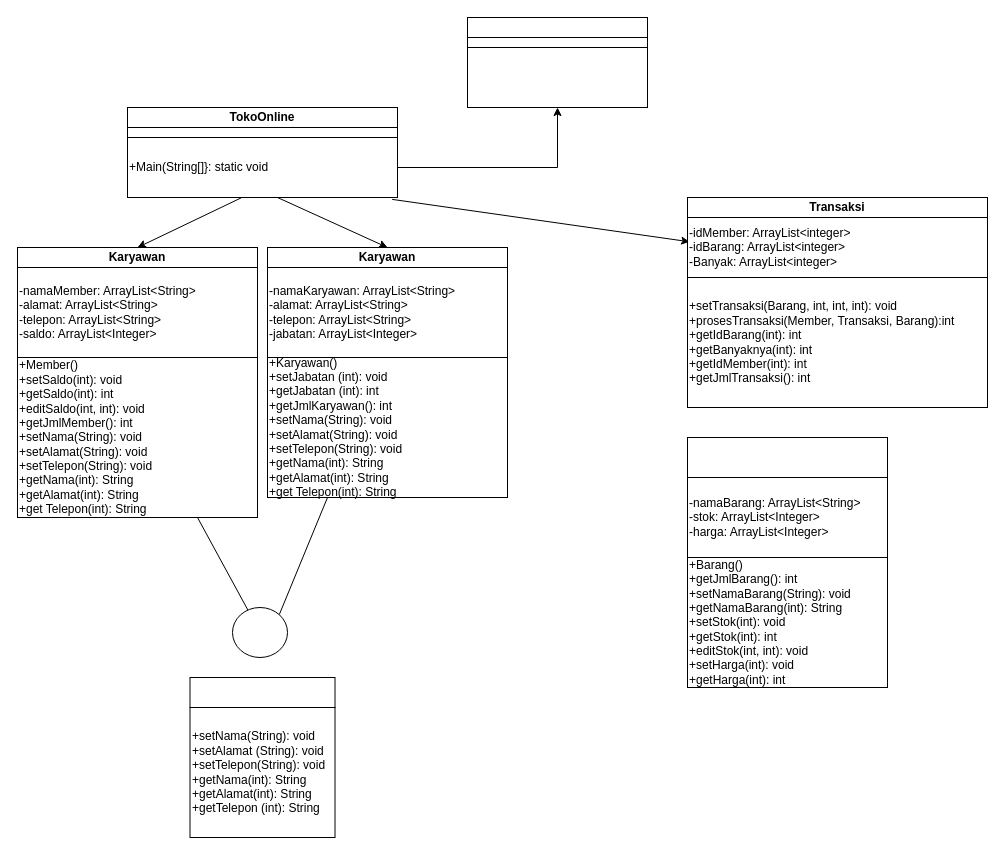
The diagram is 1005 pixels wide and 855 high, and some of its shapes have lost their labels. Each missing label, with the box of its shape:
+laporan(Barang):void +laporan(member):void +laporan(transaksi,barang):void: (466, 46, 648, 108)
Barang: (686, 436, 888, 478)
Laporan: (466, 16, 648, 38)
User: (189, 676, 335, 708)
